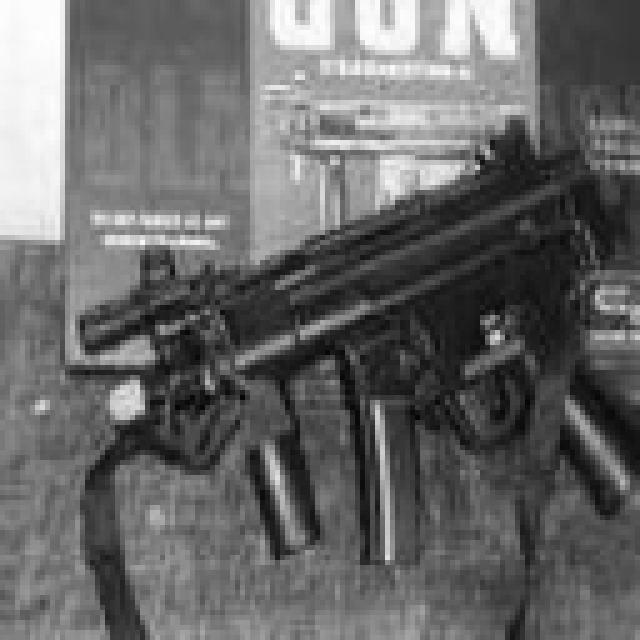Rifle: (46, 93, 640, 640)
